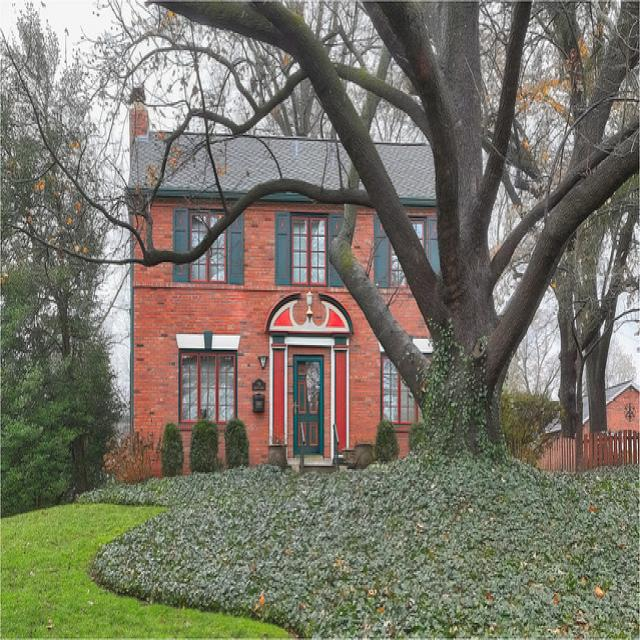Normal_building: (118, 78, 466, 473)
